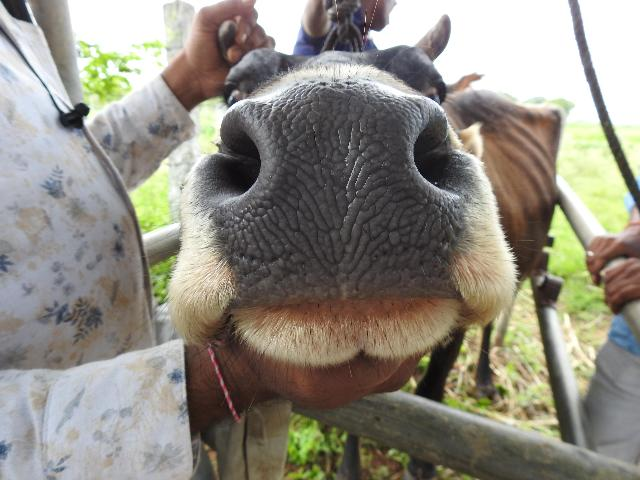Muzzle: (265, 98, 407, 288)
